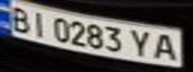0: (48, 15, 72, 44)
2: (66, 18, 87, 48)
3: (103, 24, 127, 55)
8: (84, 21, 106, 52)
A: (148, 30, 184, 62)
B: (3, 3, 36, 34)
I: (24, 9, 51, 38)
Y: (127, 27, 157, 58)
